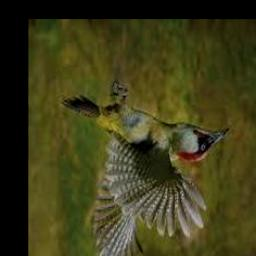Woodpecker: (60, 82, 230, 256)
